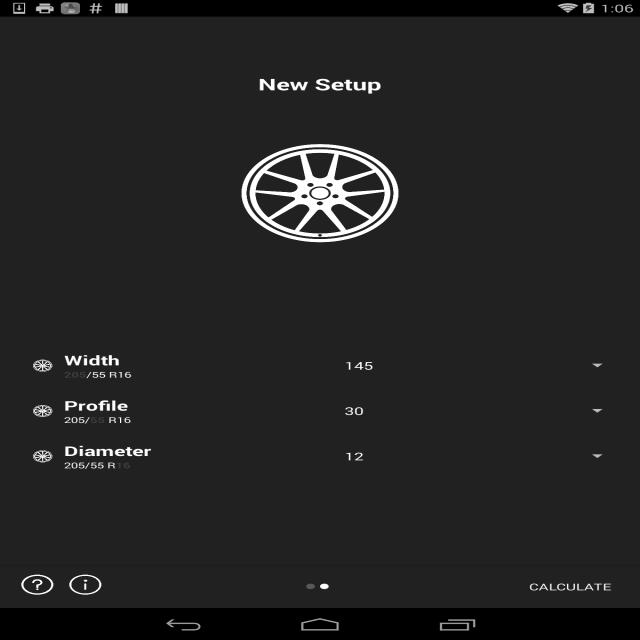Button: (525, 566, 631, 608)
CheckedTextView: (336, 349, 591, 382), (336, 395, 591, 427), (336, 440, 591, 472)
ImageView: (30, 138, 610, 248), (22, 574, 54, 594), (70, 574, 102, 594), (32, 404, 53, 418), (32, 359, 53, 372), (32, 450, 53, 463), (306, 581, 320, 592), (320, 581, 334, 592)
Spinner: (336, 349, 608, 382), (336, 395, 608, 427), (336, 440, 608, 472)
TextView: (224, 30, 415, 139), (64, 442, 151, 459), (64, 396, 128, 414), (64, 351, 120, 369), (0, 565, 640, 566), (64, 414, 85, 426), (64, 369, 86, 380), (64, 460, 85, 470), (90, 414, 105, 426), (116, 414, 130, 426), (118, 369, 132, 380), (105, 414, 117, 426), (92, 369, 105, 380), (90, 460, 104, 470), (116, 460, 130, 470), (106, 369, 117, 380), (104, 460, 116, 470), (86, 369, 92, 380), (85, 414, 90, 426), (85, 460, 90, 470)
